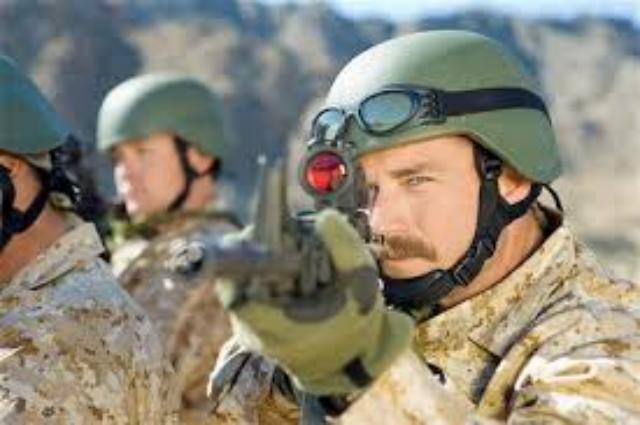other: (240, 38, 640, 417), (0, 25, 136, 420), (94, 75, 233, 352)
